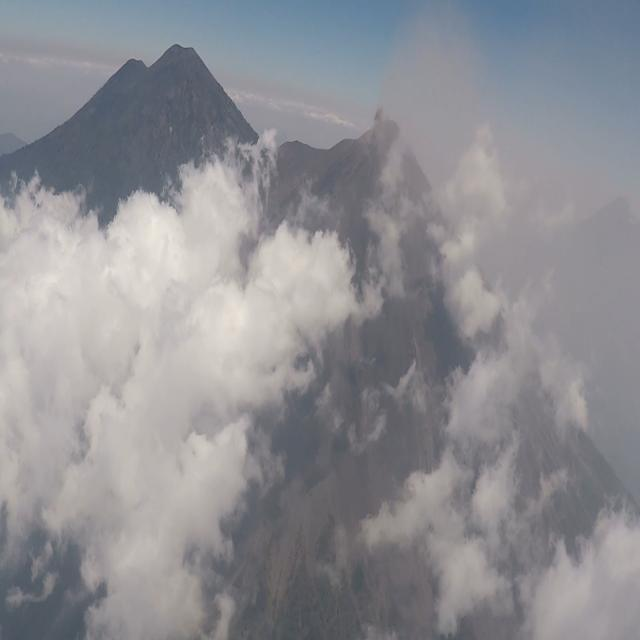Plume: (372, 105, 392, 131)
Summit: (324, 116, 442, 202)
